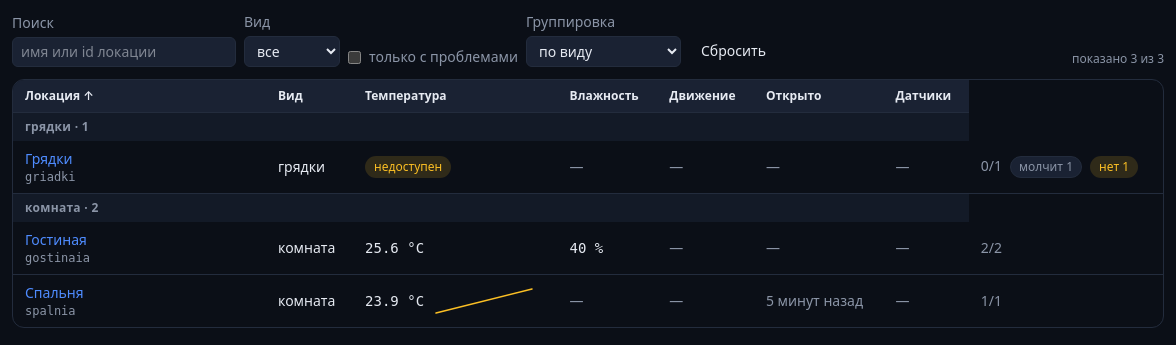
Test: LocationGrid › фильтрует локации с проблемами
Click the checkbox labelled "только с проблемами".
click(354, 57)  # box [348, 50, 361, 64]
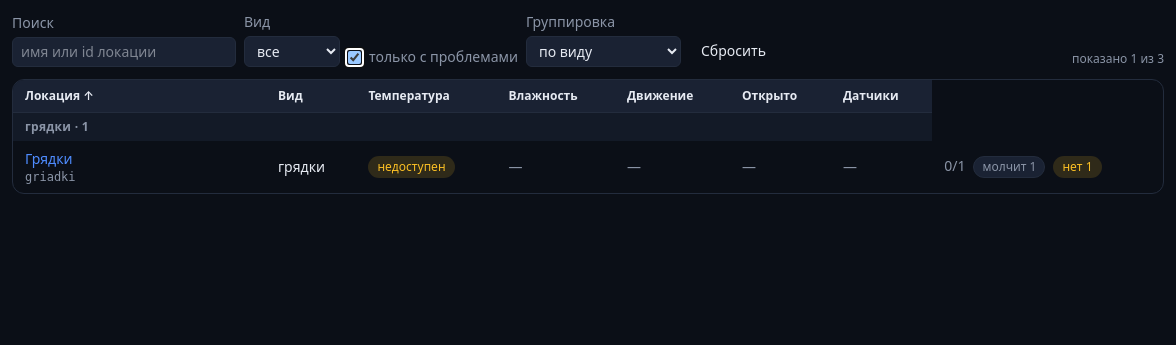
Expected: the link "Грядки" is shown, [25, 149, 73, 168]
Expected: the link "Спальня" is gone
